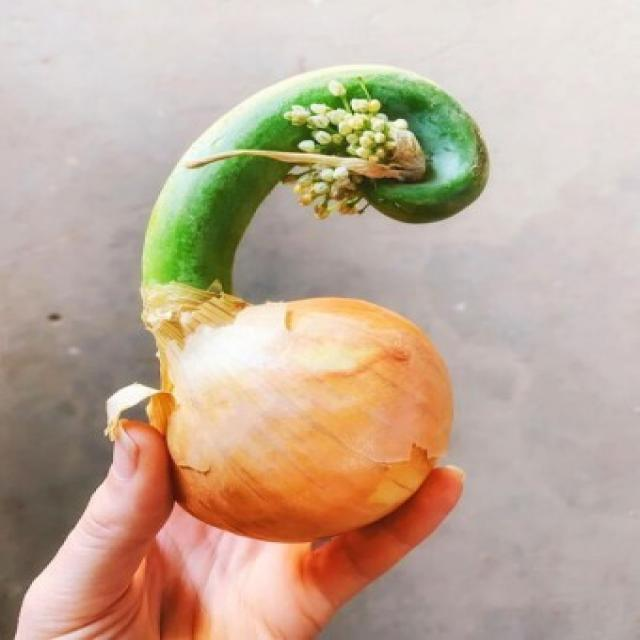onion: (104, 270, 508, 552)
